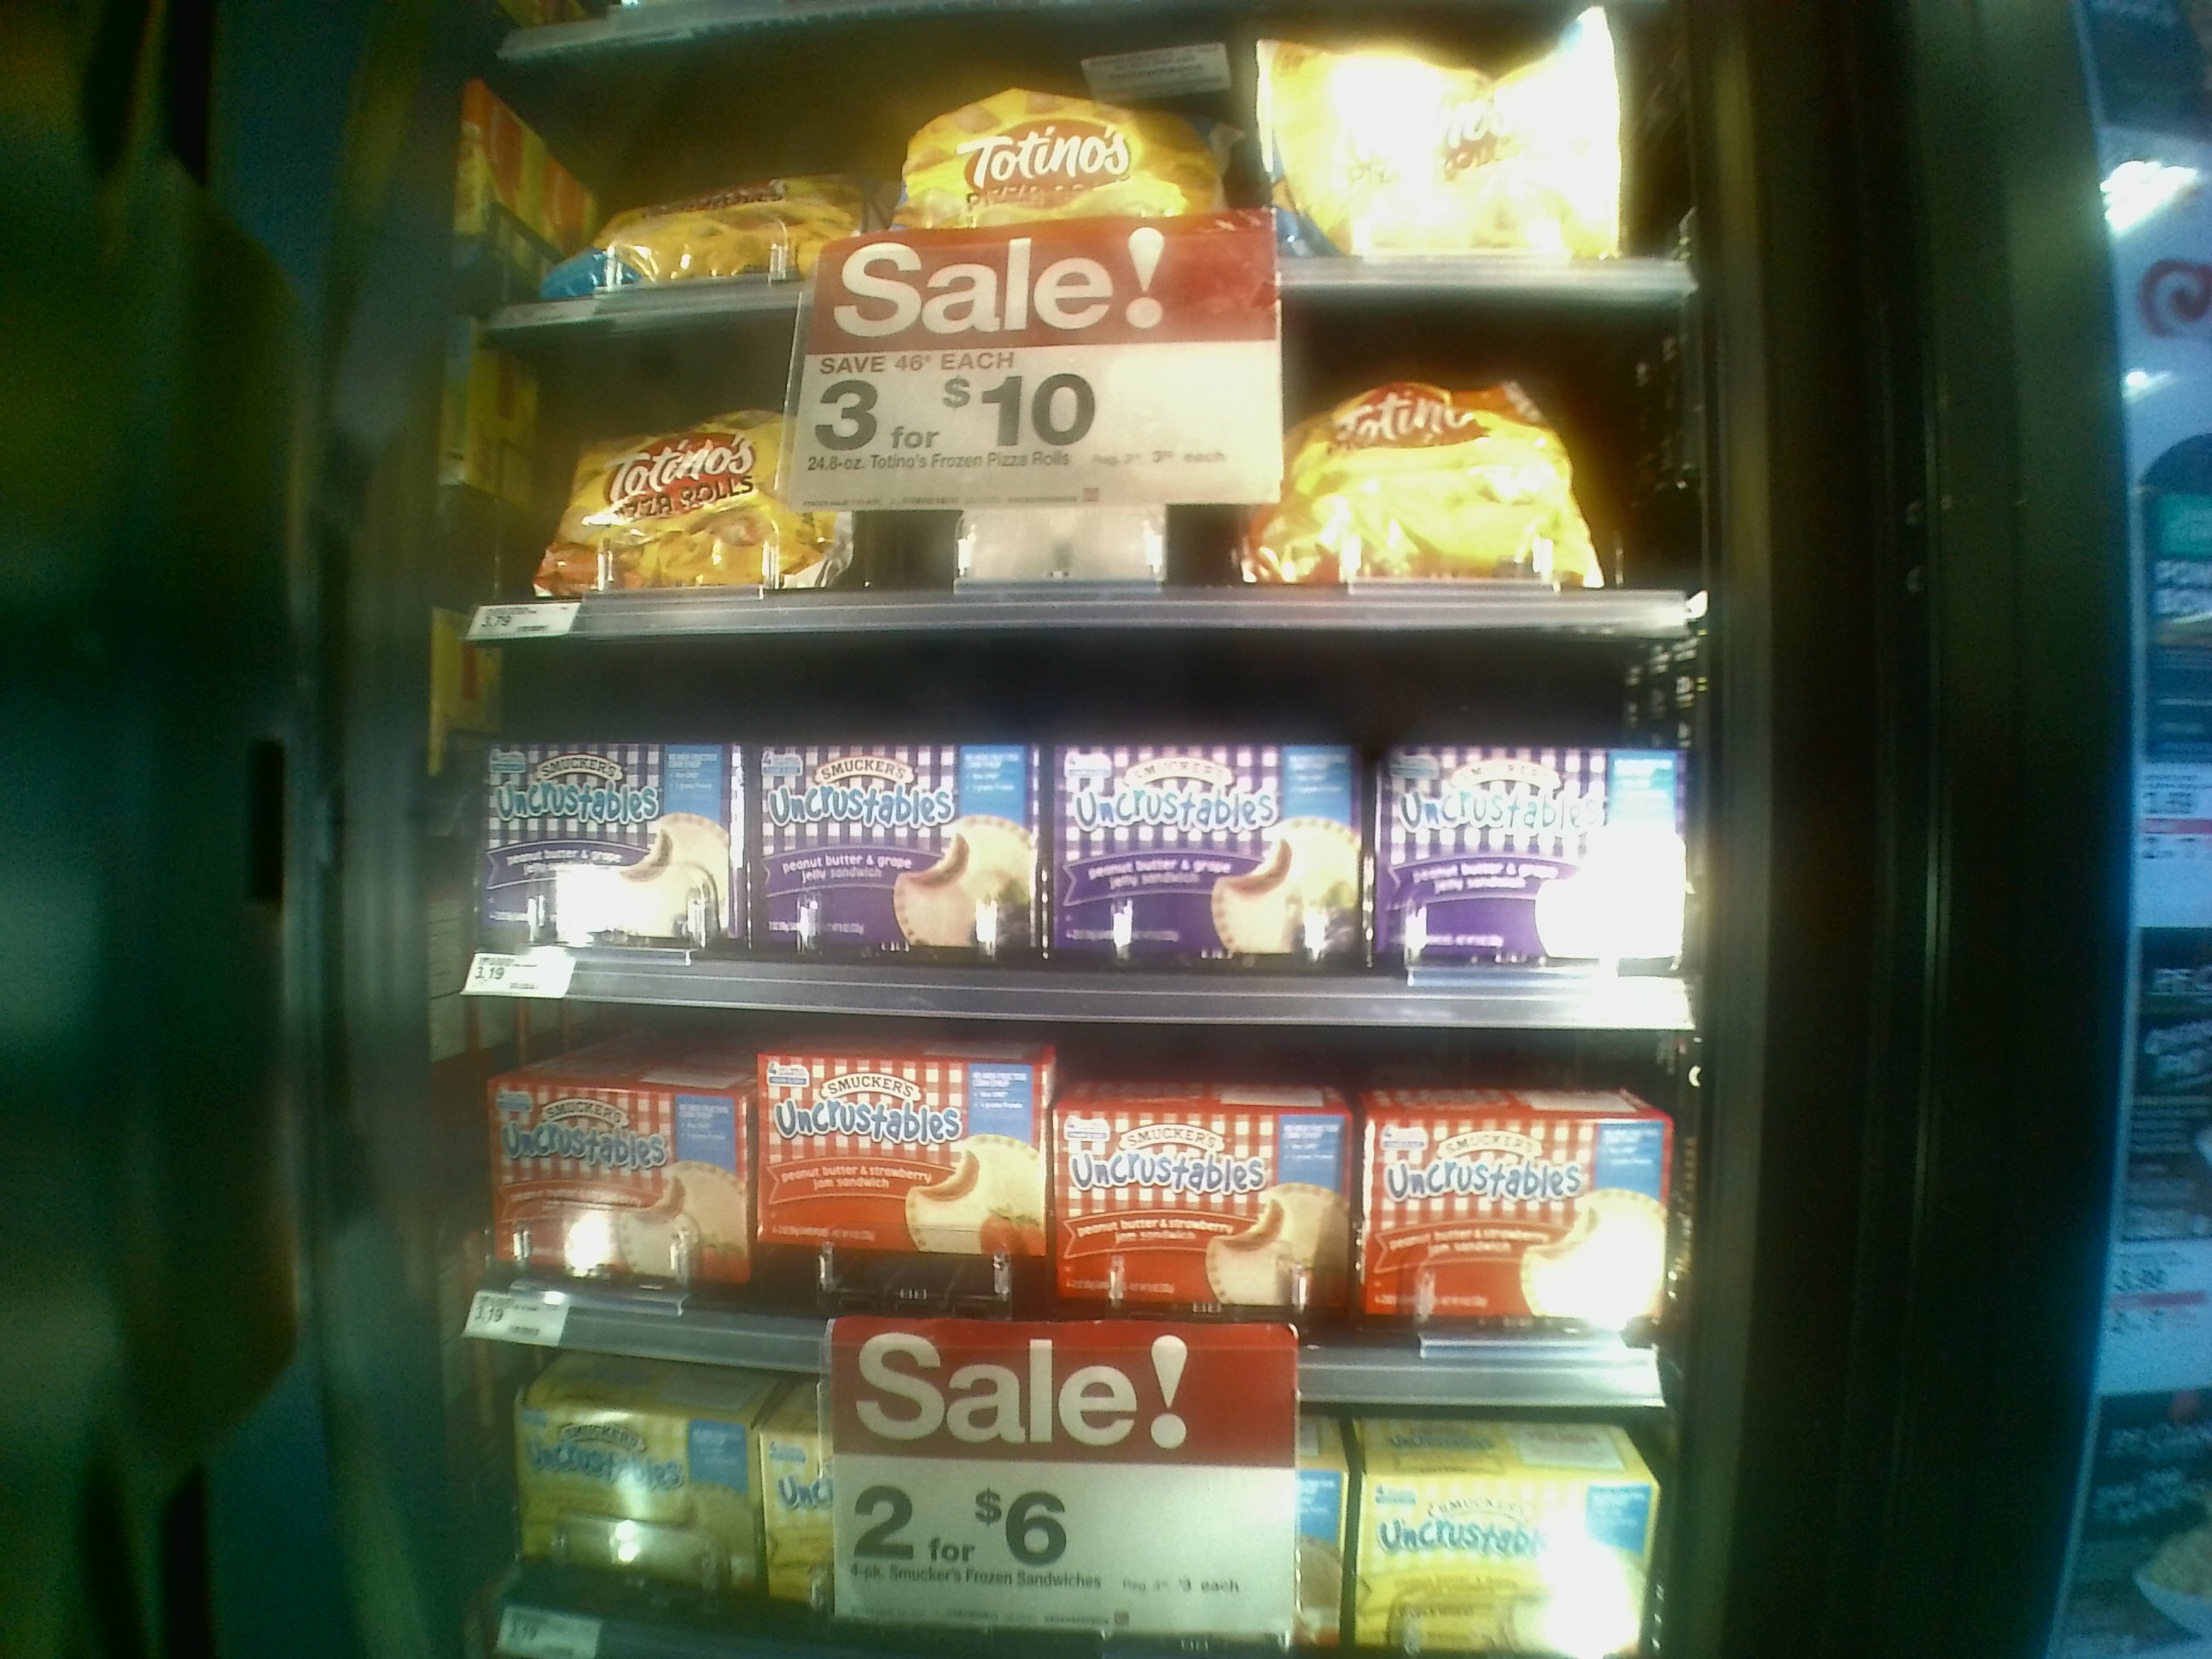shelf: (467, 962, 1663, 1384), (446, 626, 1667, 1014), (427, 303, 1677, 610)
